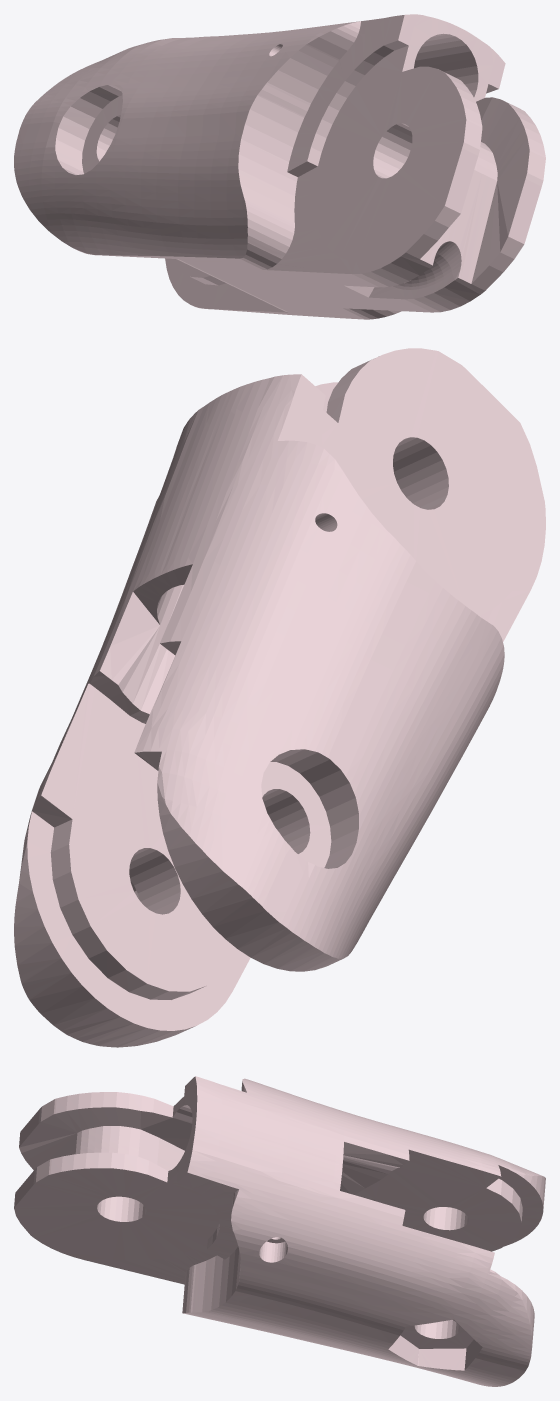
Rendered from i02_leftHand_pinkyMid_visual.obj.full.glb.
3 renders of one model, top to bottom at view 1: azimuth 30°, elevation 25°; view 2: azimuth 150°, elevation 25°; view 3: azimuth 270°, elevation 25°, orthographic. The views are drawn at different scales.
Size of the model in its own units: 0.2075 by 0.2597 by 0.3863.
